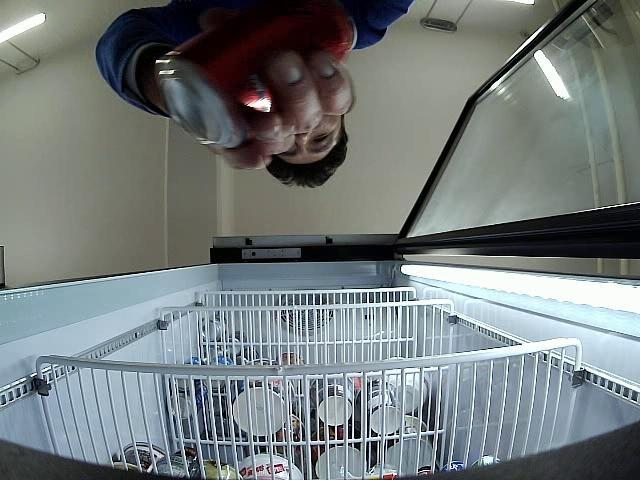11_cocaColaZero: (156, 0, 357, 148)
